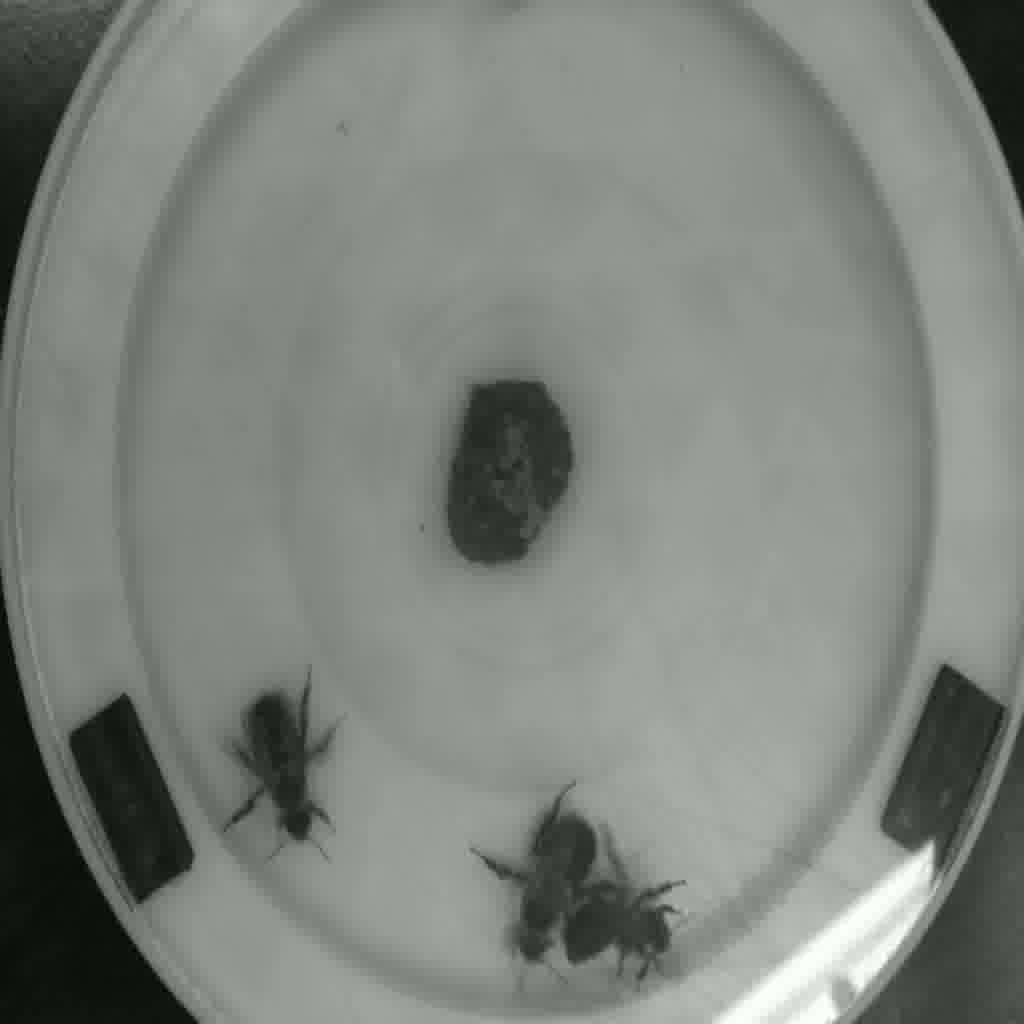bee: (223, 703, 354, 858), (492, 813, 593, 981), (563, 888, 694, 979)
